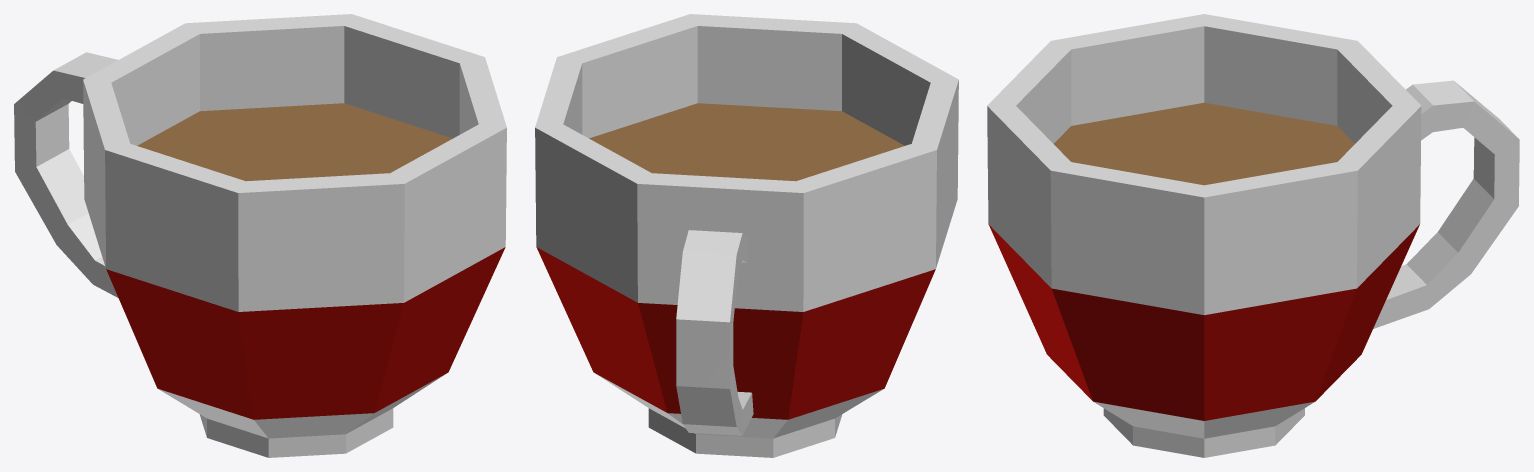
Rendered from C_Coffee_Cup_Medium_1.fbx.
3 views of the same model, side by side, from view 1: azimuth 30°, elevation 25°; view 2: azimuth 150°, elevation 25°; view 3: azimuth 270°, elevation 25° (orthographic).
Parts seen in each view (by area): view 1: C_Coffee_Cup_Medium_1; view 2: C_Coffee_Cup_Medium_1; view 3: C_Coffee_Cup_Medium_1.
Part boxes in pixels (box(x1,y1,x2,y2)): C_Coffee_Cup_Medium_1: box(14, 14, 506, 457); C_Coffee_Cup_Medium_1: box(535, 14, 958, 457); C_Coffee_Cup_Medium_1: box(987, 14, 1519, 457).
Bounding box in the file's own units: 84.28 × 103 × 66.31.
